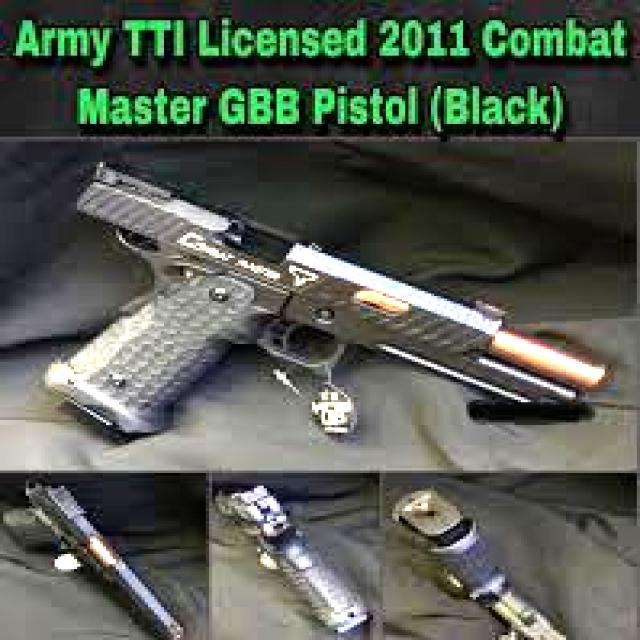semi automatic: (34, 144, 624, 452)
